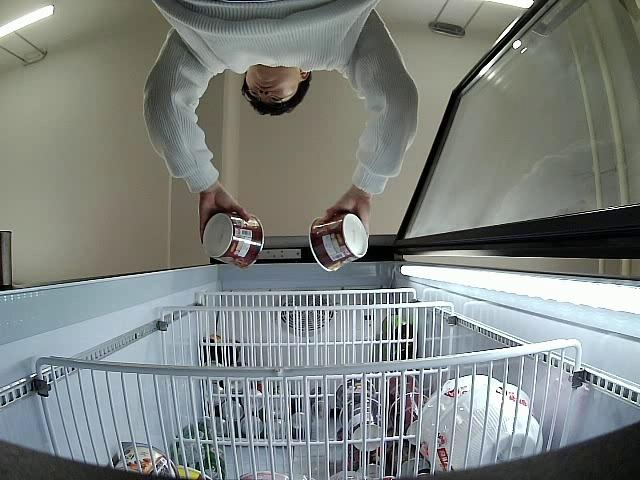00_hand: (199, 194, 251, 244), (318, 198, 370, 238)
05_nuguri_L: (309, 214, 369, 274), (201, 212, 265, 267)
